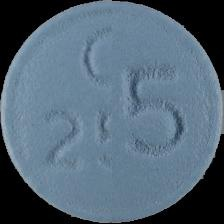50458-197: (0, 0, 224, 224)
